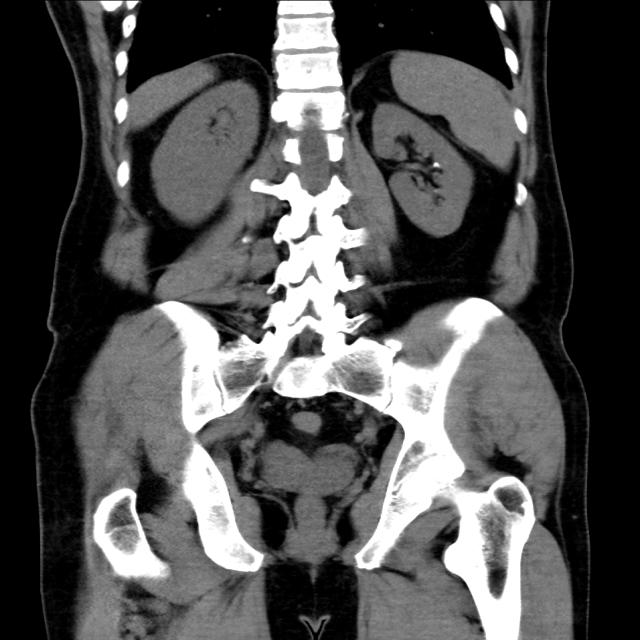kidneystone: (240, 235, 255, 245), (431, 161, 442, 171)
